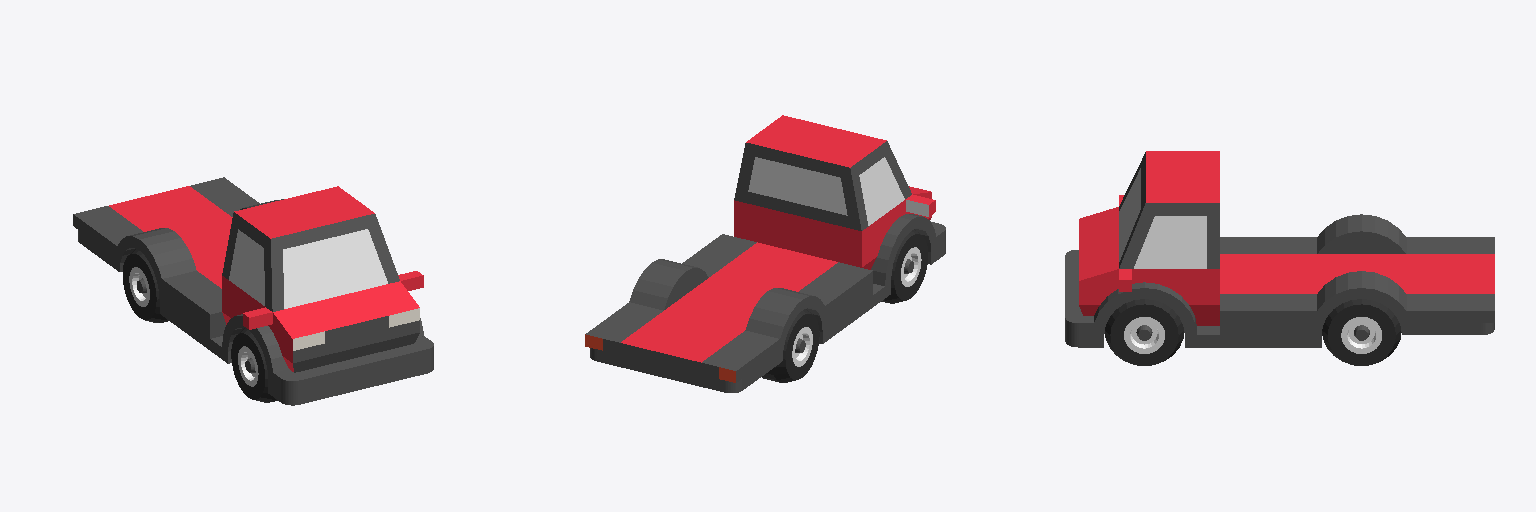
Rendered from deliveryFlat.obj.
3 views of the same model, side by side, from view 1: azimuth 30°, elevation 25°; view 2: azimuth 150°, elevation 25°; view 3: azimuth 270°, elevation 25° (orthographic).
Visible parts, largest first — view 1: body, wheel_frontRight, wheel_backRight; view 2: body, wheel_backRight, wheel_frontRight; view 3: body, wheel_frontLeft, wheel_backLeft.
Part boxes in pixels (bbox=[...]): body: bbox=[73, 177, 433, 405]; wheel_frontRight: bbox=[231, 328, 277, 402]; wheel_backRight: bbox=[123, 249, 168, 322]; body: bbox=[585, 115, 945, 392]; wheel_backRight: bbox=[762, 309, 819, 382]; wheel_frontRight: bbox=[881, 229, 927, 303]; body: bbox=[1065, 151, 1494, 347]; wheel_frontLeft: bbox=[1105, 299, 1183, 365]; wheel_backLeft: bbox=[1322, 299, 1401, 365].
Bounding box in the file's own units: 59.06 × 51.18 × 126.